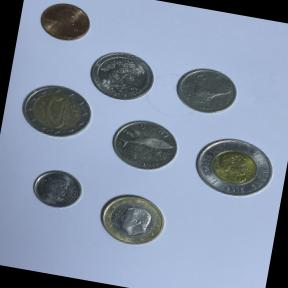coin: (186, 126, 280, 206), (12, 76, 99, 144), (93, 184, 173, 253), (104, 112, 184, 178), (83, 45, 160, 107), (26, 160, 90, 218), (34, 0, 96, 48)
